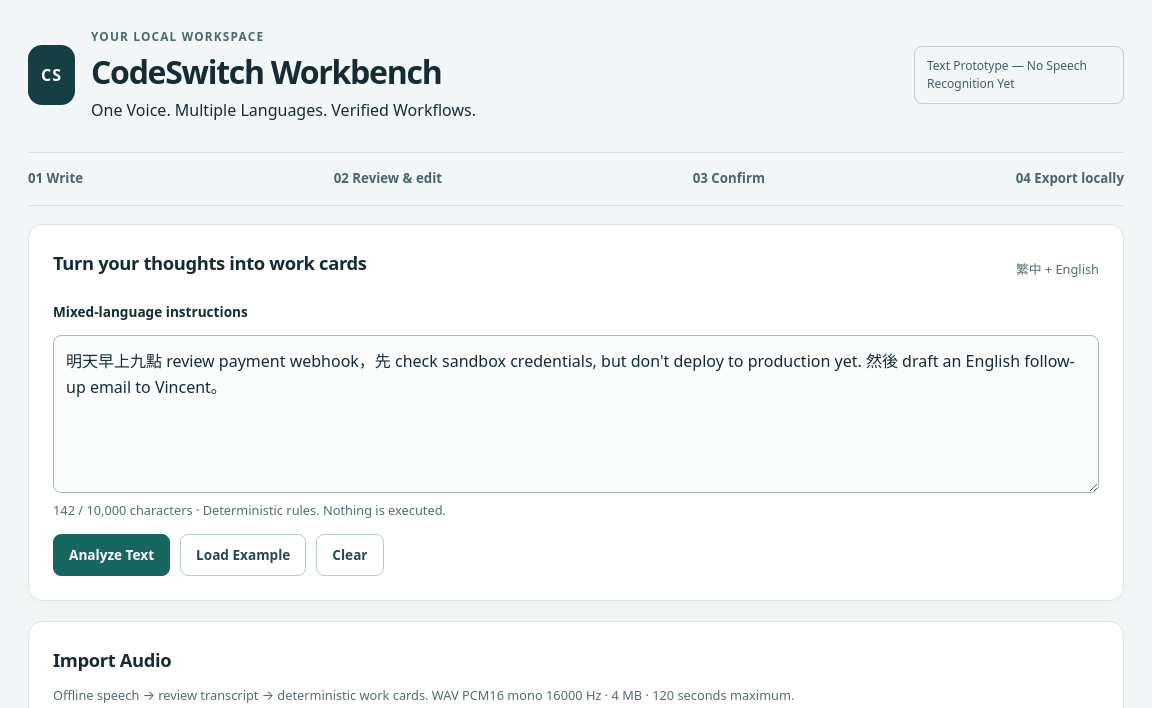
Scenario: editing a confirmed card returns it to draft and disables export
Click the button "Analyze Text": (112, 555) left=53, top=534, right=170, bottom=576
(page scrolled)
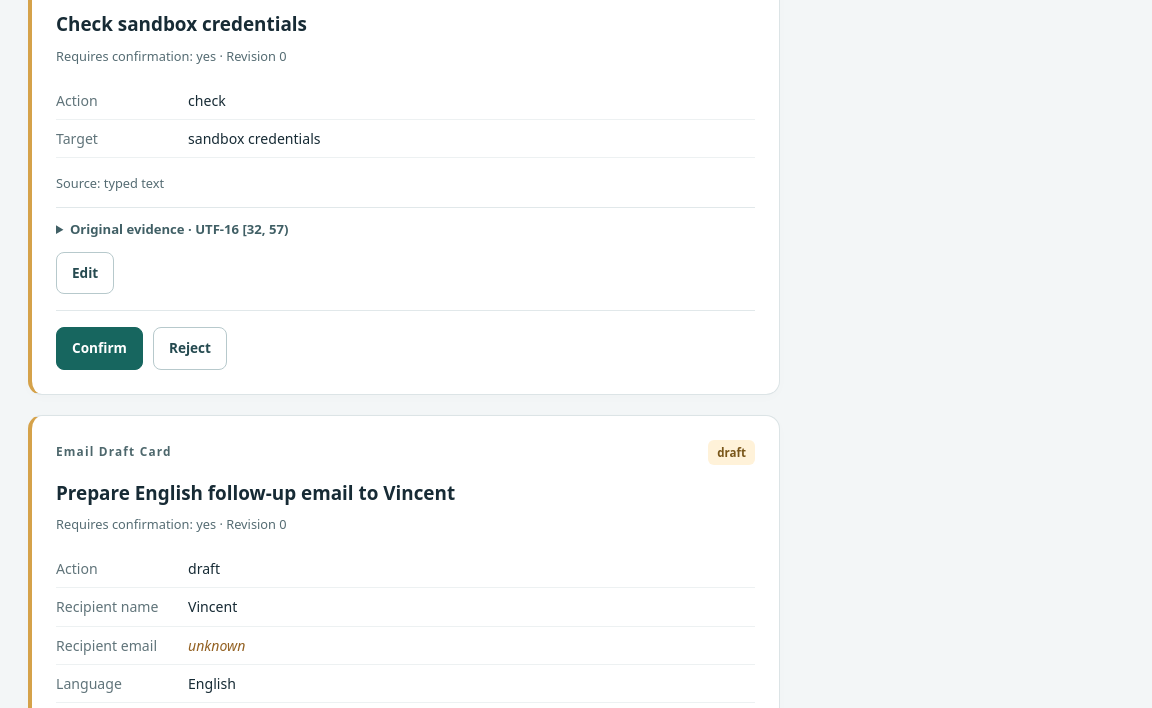
Click the button "Confirm": (99, 348) left=56, top=327, right=143, bottom=370
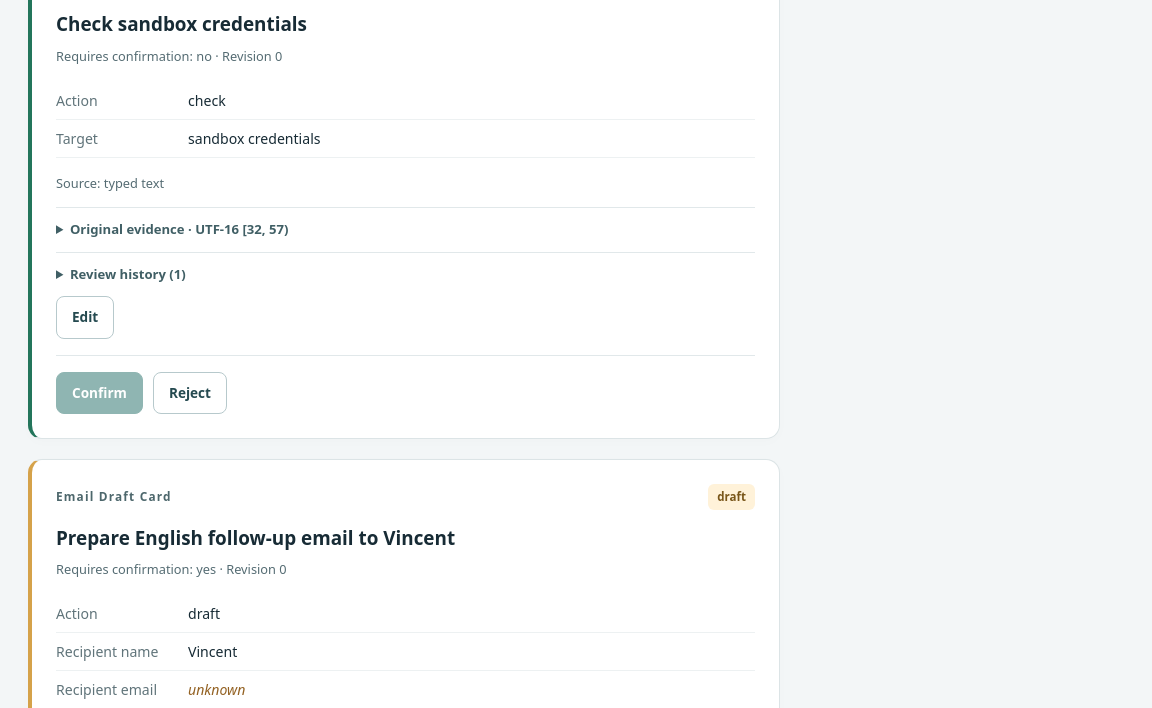
Click the button "Edit": (85, 318) left=56, top=296, right=114, bottom=339
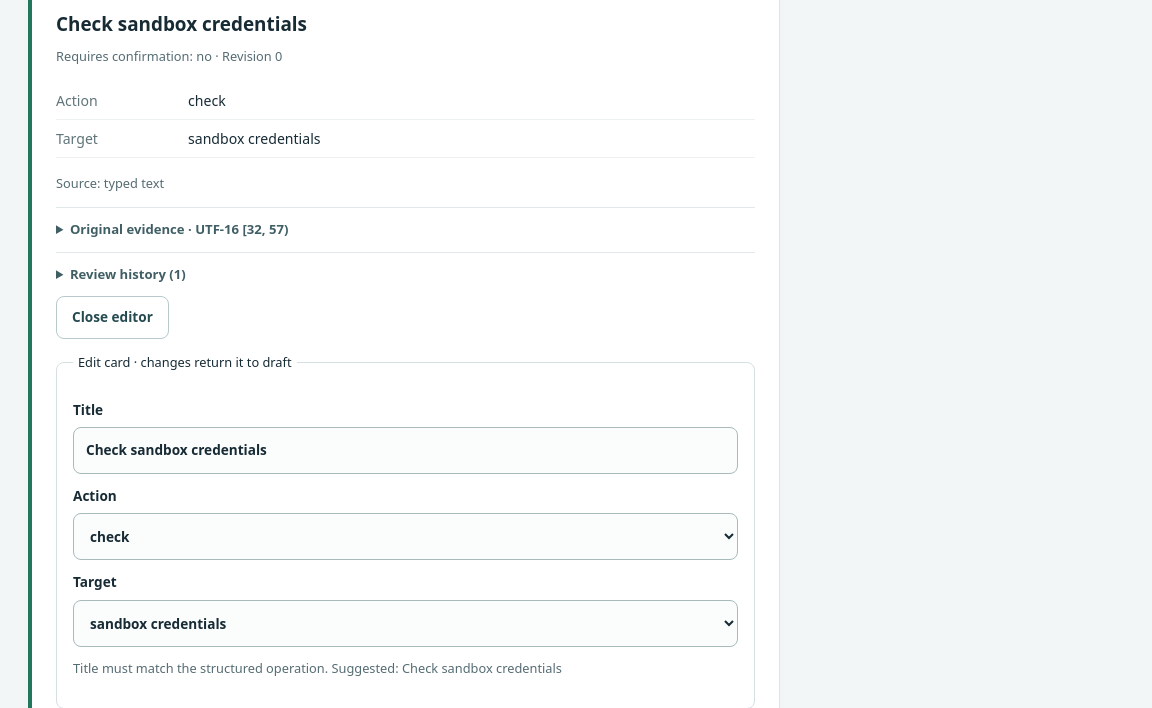
Replace the text in the field labelled "Title" with "Check sandbox": (406, 451) left=73, top=427, right=738, bottom=474
(page scrolled)
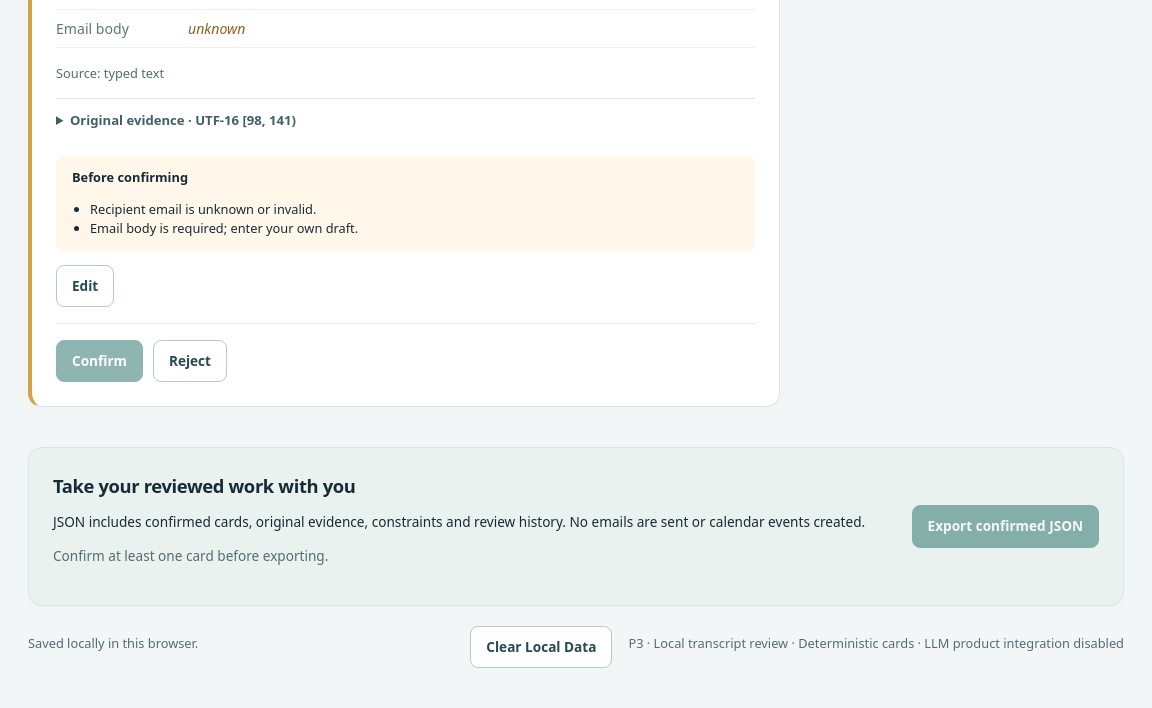
Check: the button "Export confirmed JSON" is disabled, box left=912, top=505, right=1099, bottom=548
